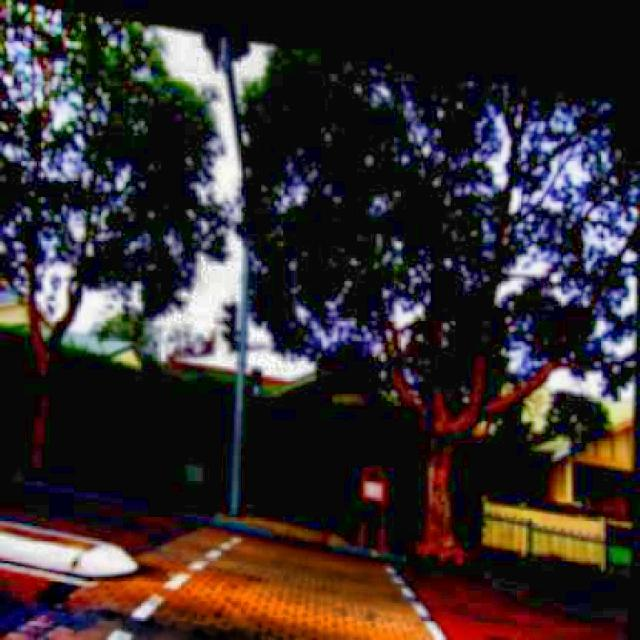semaforo pedestre: (241, 349, 277, 402)
